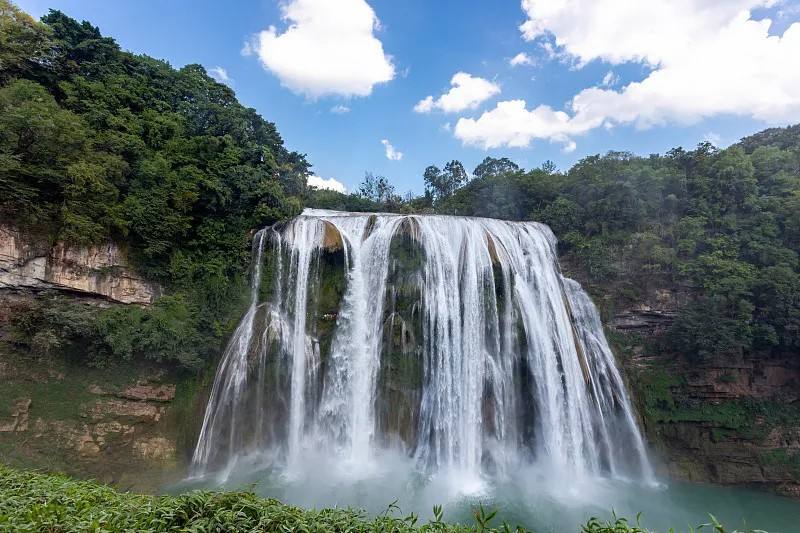Huangguoshu: (198, 208, 660, 485)
